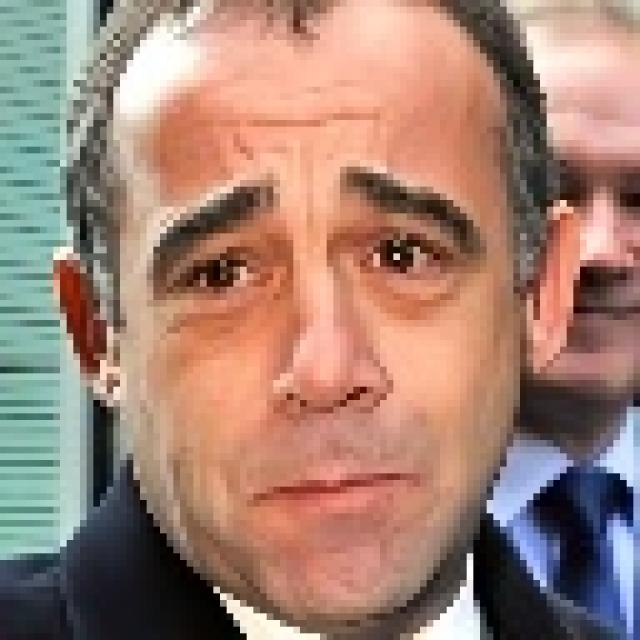sad: (68, 32, 544, 601)
